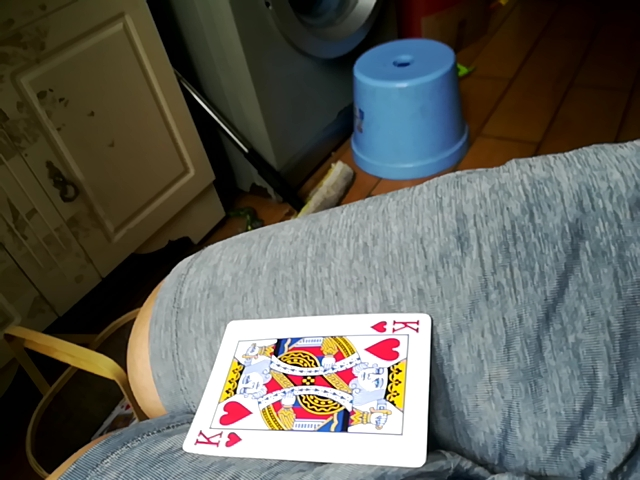hx k: (183, 309, 432, 469)
